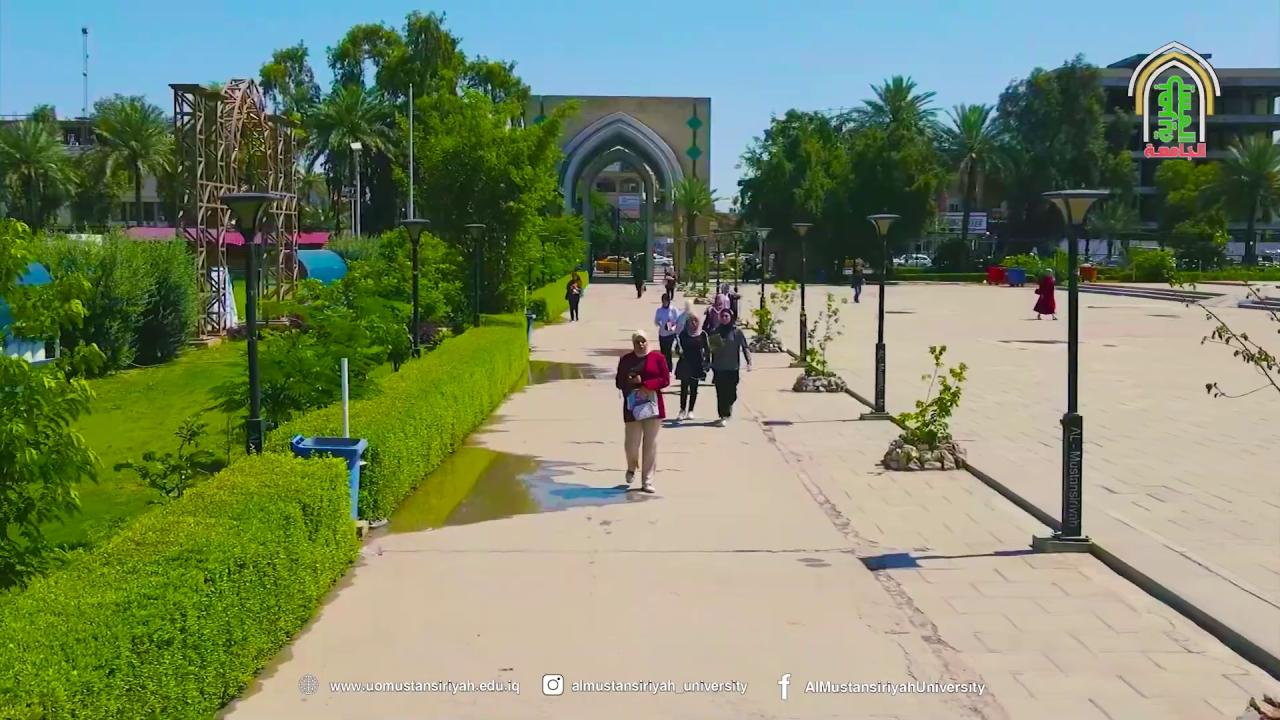car: (710, 251, 761, 269), (594, 255, 631, 274), (892, 252, 933, 267)
person: (614, 330, 670, 493), (707, 307, 753, 422), (671, 312, 711, 420), (653, 292, 681, 375), (1033, 267, 1058, 320), (565, 271, 583, 321), (629, 252, 646, 298), (850, 258, 865, 302), (664, 265, 678, 299)
tree: (258, 8, 583, 325), (406, 79, 581, 321), (990, 51, 1134, 266), (0, 347, 103, 587), (838, 72, 947, 266), (734, 106, 853, 278), (302, 81, 396, 239), (930, 100, 1013, 251), (88, 92, 175, 225), (881, 342, 968, 470), (1196, 131, 1279, 265), (374, 226, 466, 343), (113, 414, 225, 501), (497, 206, 587, 314), (0, 117, 83, 233), (1152, 156, 1227, 267), (257, 39, 322, 150), (662, 174, 721, 284), (589, 190, 645, 278), (746, 277, 796, 352), (536, 207, 586, 281), (802, 290, 843, 378)
